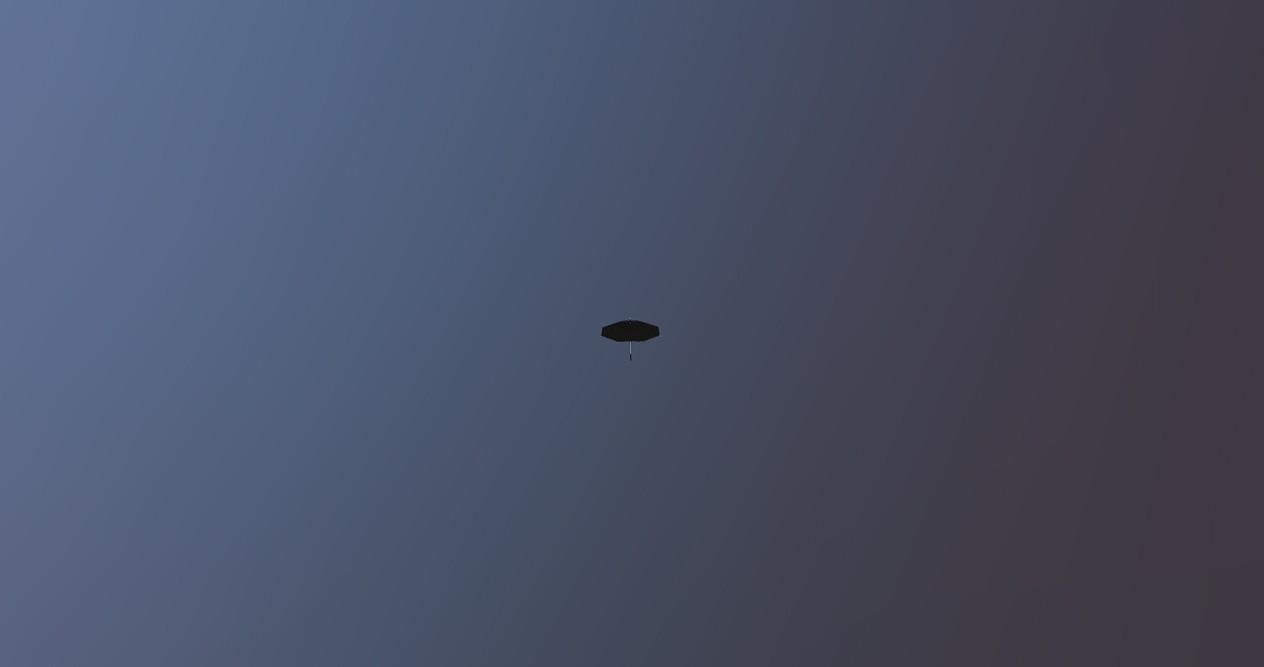Umbrella: (599, 316, 660, 360)
